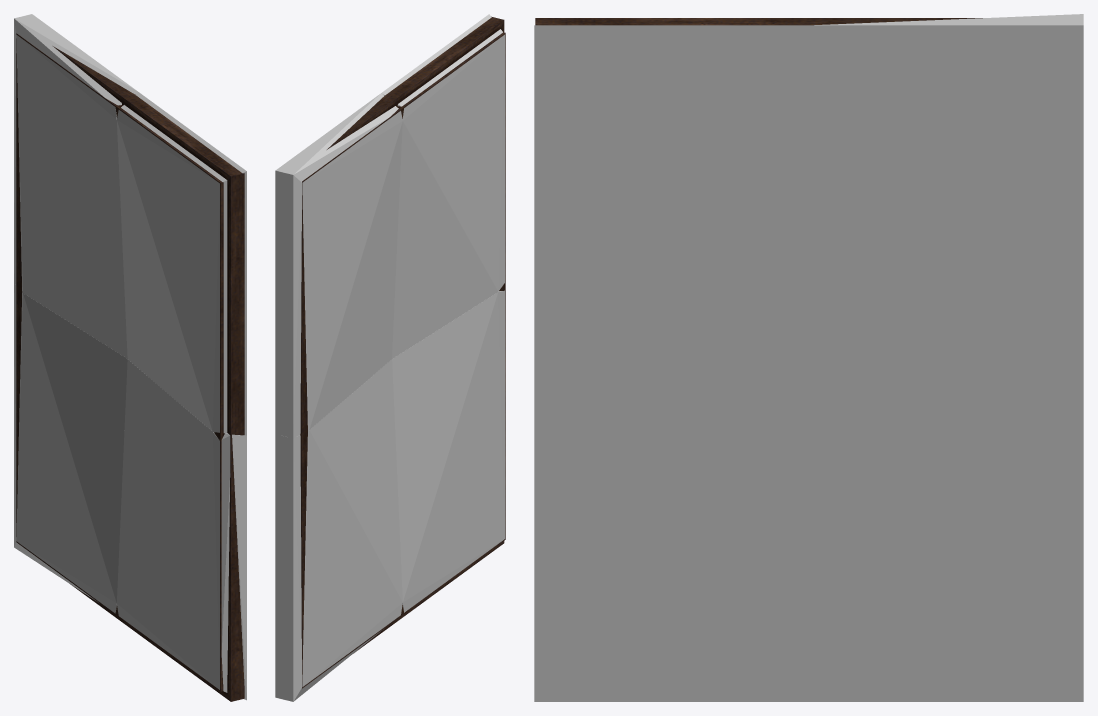
File: SM_Painting_01.fbx
The picture shows the model from 3 angles, left to right: view 1: azimuth 30°, elevation 25°; view 2: azimuth 150°, elevation 25°; view 3: azimuth 270°, elevation 25°; orthographic projection. The views are drawn at different scales.
Parts seen in each view (by area): view 1: SM_Painting_01_ConvexHulls, SM_Painting_01; view 2: SM_Painting_01_ConvexHulls, SM_Painting_01; view 3: SM_Painting_01_ConvexHulls, SM_Painting_01.
Part boxes in pixels (<box>): SM_Painting_01_ConvexHulls: <box>14,14,246,700</box>; SM_Painting_01: <box>16,33,244,701</box>; SM_Painting_01_ConvexHulls: <box>275,14,504,701</box>; SM_Painting_01: <box>300,16,505,688</box>; SM_Painting_01_ConvexHulls: <box>534,14,1083,701</box>; SM_Painting_01: <box>535,18,982,25</box>.
Bounding box in the file's own units: 2.98 × 51.1 × 69.44.
2 materials, 1 textured.
